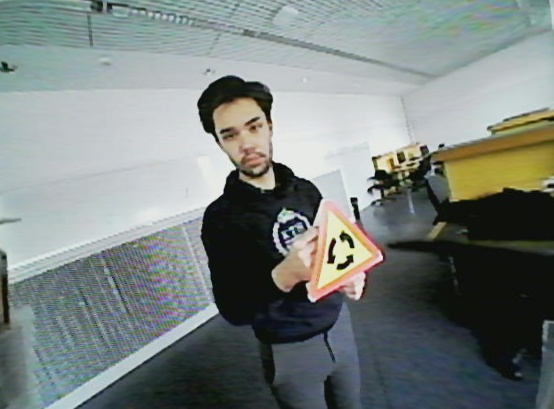roundabout_warning: (305, 197, 387, 306)
